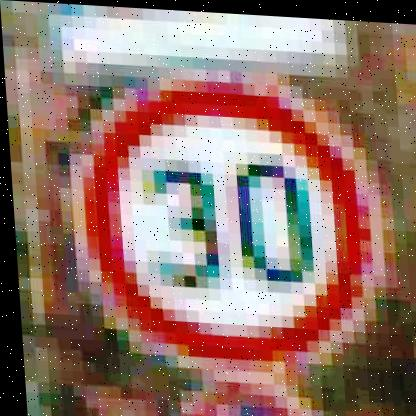Speed Limit -30-: (65, 62, 393, 379)
